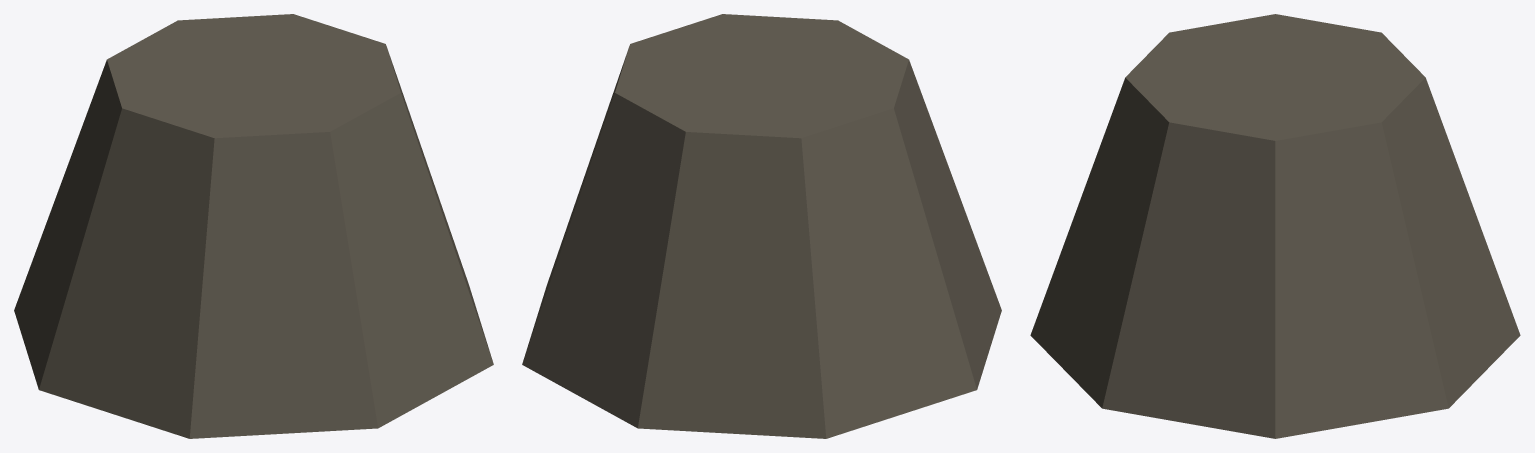
File: acc_hat_guard.glb
3 renders of one model, left to right at view 1: azimuth 30°, elevation 25°; view 2: azimuth 150°, elevation 25°; view 3: azimuth 270°, elevation 25°, orthographic.
Visible parts, largest first — view 1: acc_hat_guard; view 2: acc_hat_guard; view 3: acc_hat_guard.
Part boxes in pixels (x1=…): acc_hat_guard: x1=14, y1=14, x2=493, y2=438; acc_hat_guard: x1=522, y1=14, x2=1001, y2=438; acc_hat_guard: x1=1030, y1=14, x2=1520, y2=438.
Bounding box in the file's own units: 0.62 × 0.36 × 0.62.
1 material, 1 textured.
